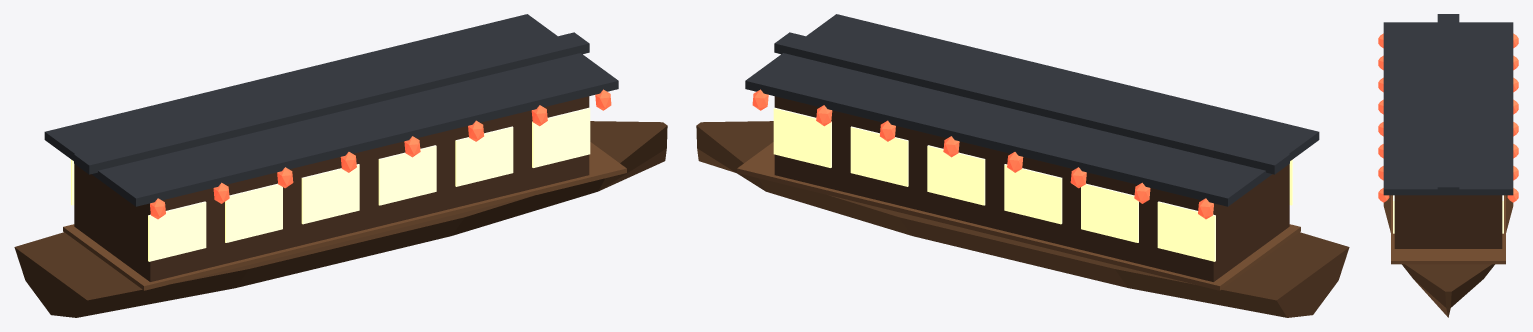
Rendered from yakatabune.glb.
3 renders of one model, left to right at view 1: azimuth 30°, elevation 25°; view 2: azimuth 150°, elevation 25°; view 3: azimuth 270°, elevation 25°, orthographic. The views are drawn at different scales.
Visible parts, largest first — view 1: yakatabune; view 2: yakatabune; view 3: yakatabune.
Boxes of the visible parts, left/top/right/bottom form: yakatabune: left=14, top=14, right=667, bottom=317; yakatabune: left=696, top=14, right=1349, bottom=317; yakatabune: left=1378, top=14, right=1518, bottom=317.
Bounding box in the file's own units: 14 × 3.35 × 3.91.
